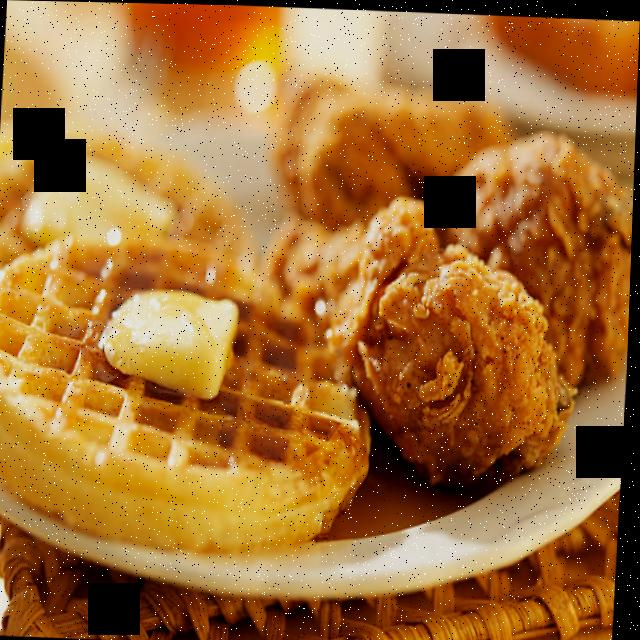Frango: (253, 66, 638, 486)
